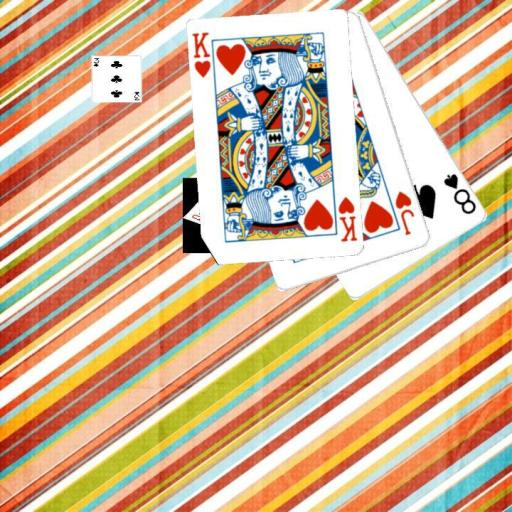8S: (441, 170, 478, 216)
JH: (392, 188, 416, 237)
KH: (335, 194, 359, 243), (190, 29, 213, 80)
